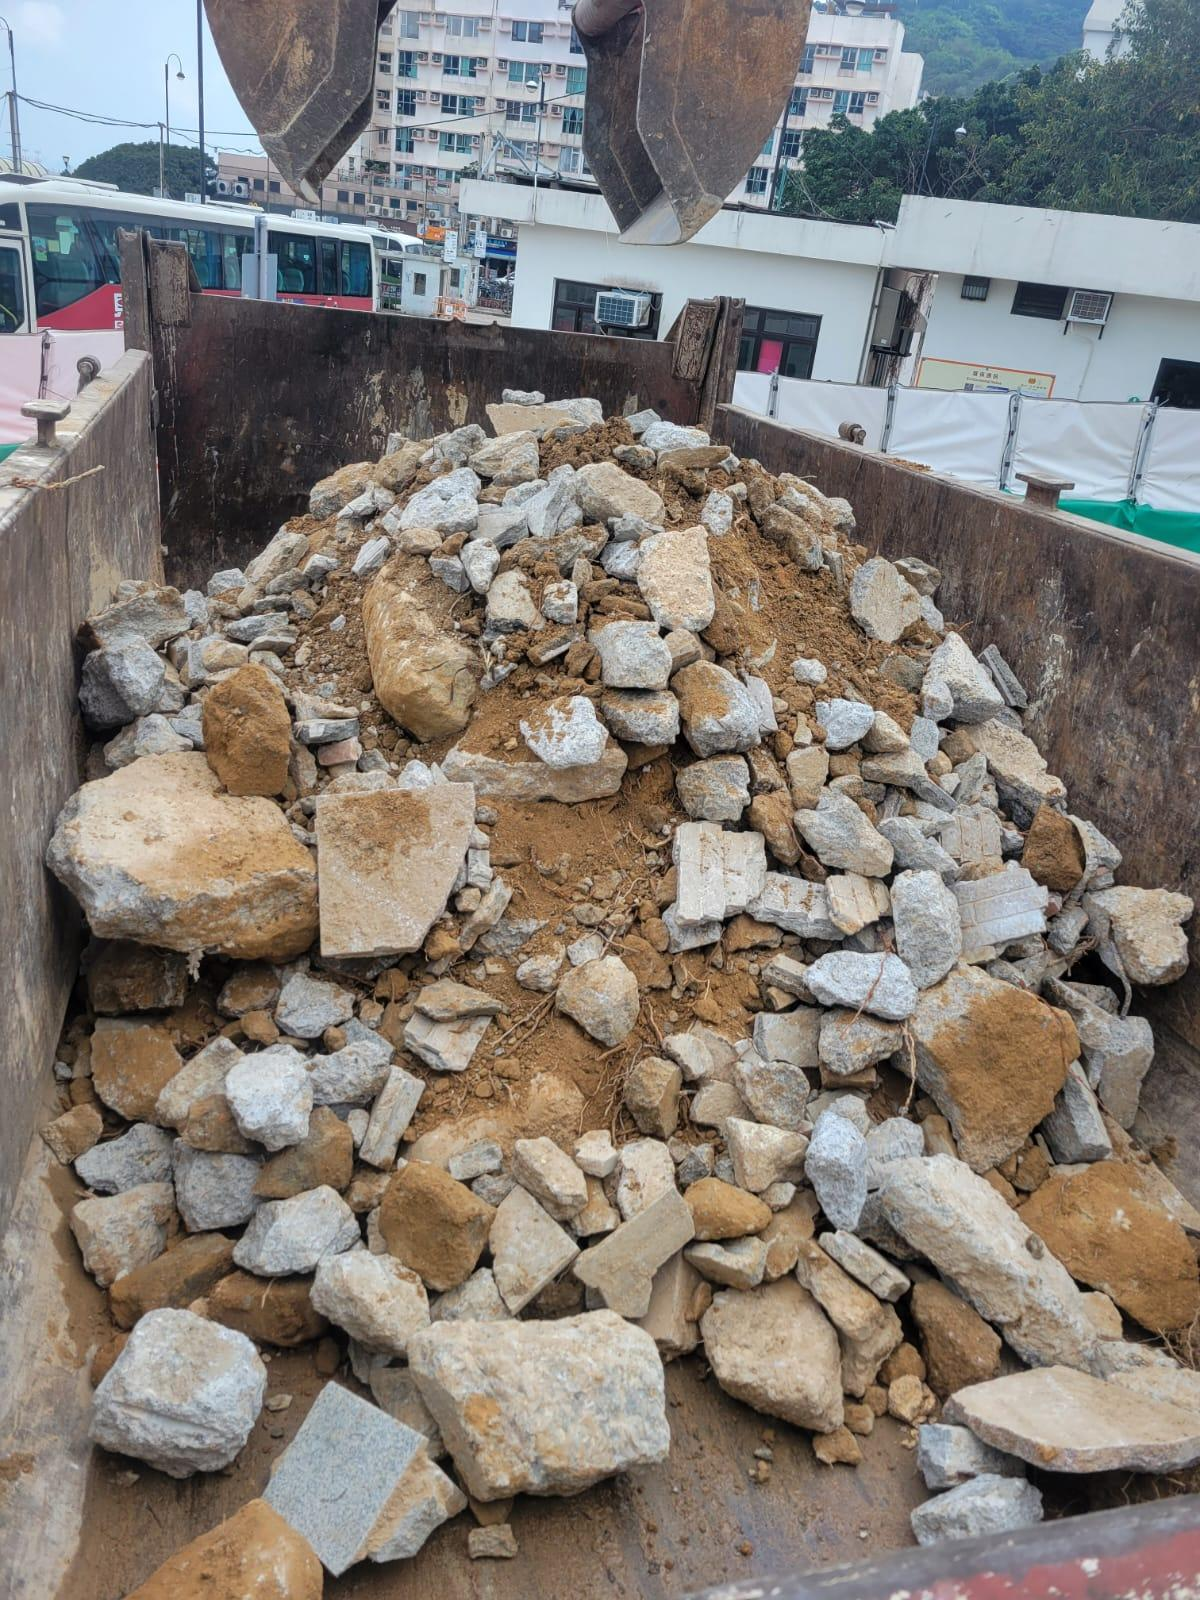dry: (43, 404, 1192, 1600)
